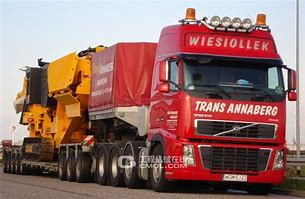bigtruck: (16, 11, 293, 188)
